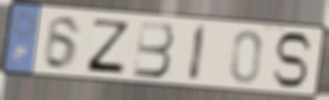0: (229, 28, 264, 86)
6: (41, 15, 83, 71)
B: (131, 19, 176, 79)
I: (186, 22, 210, 84)
S: (270, 30, 315, 90)
Z: (84, 17, 132, 76)
